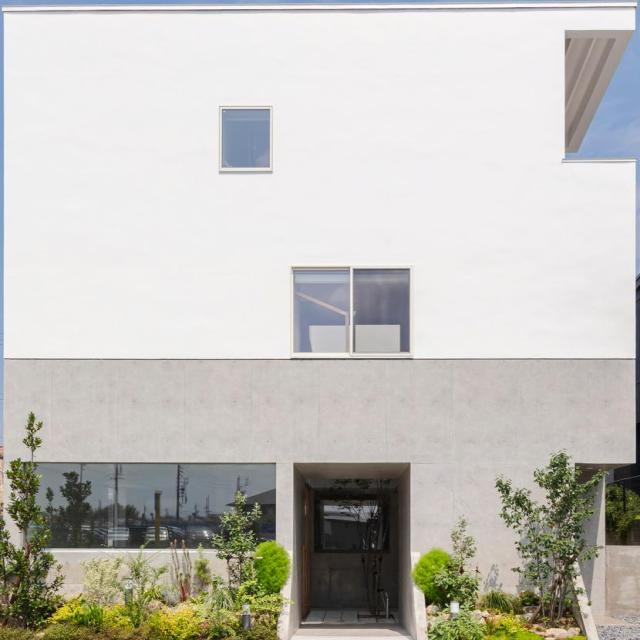window: (41, 462, 275, 545), (292, 268, 410, 356), (221, 107, 268, 172)
